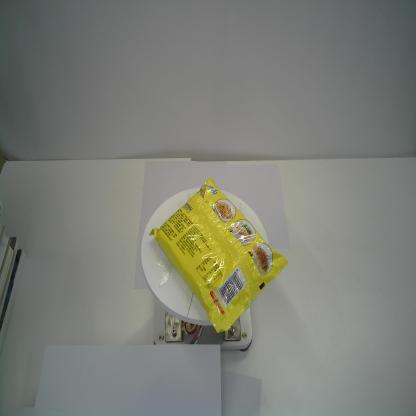Instant Noodles: (148, 176, 289, 334)
